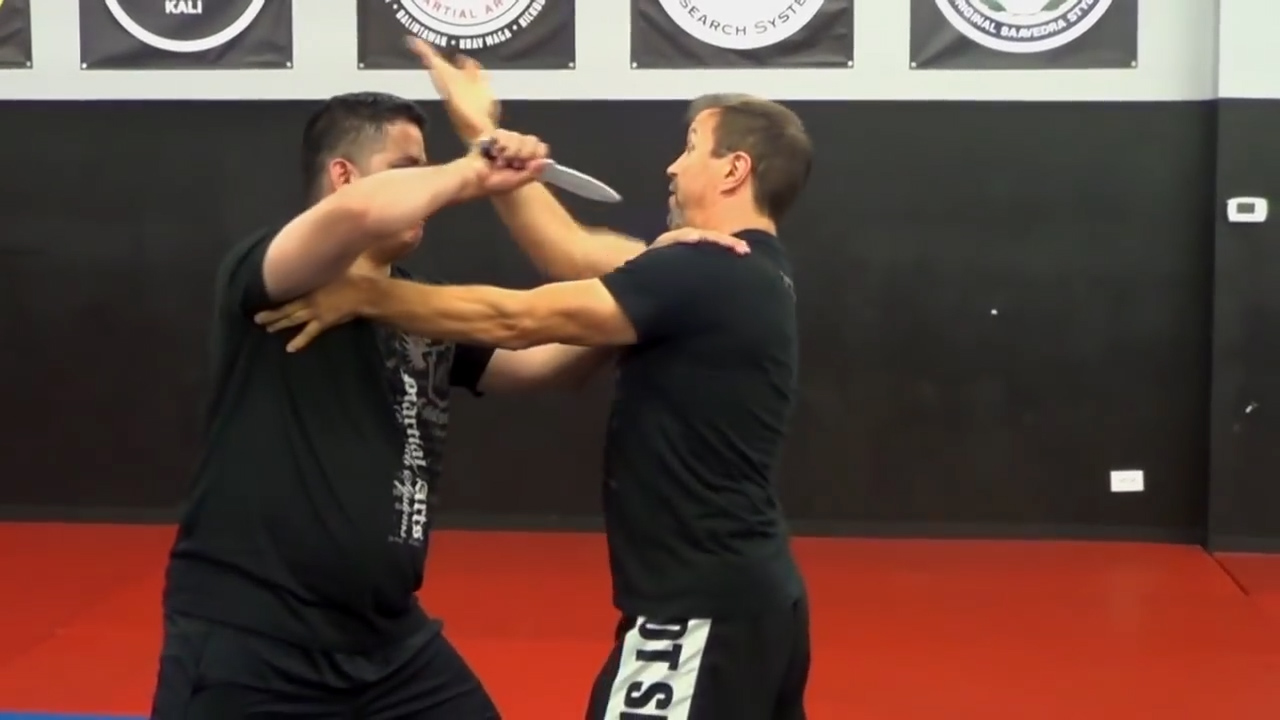knife: (472, 123, 633, 214)
